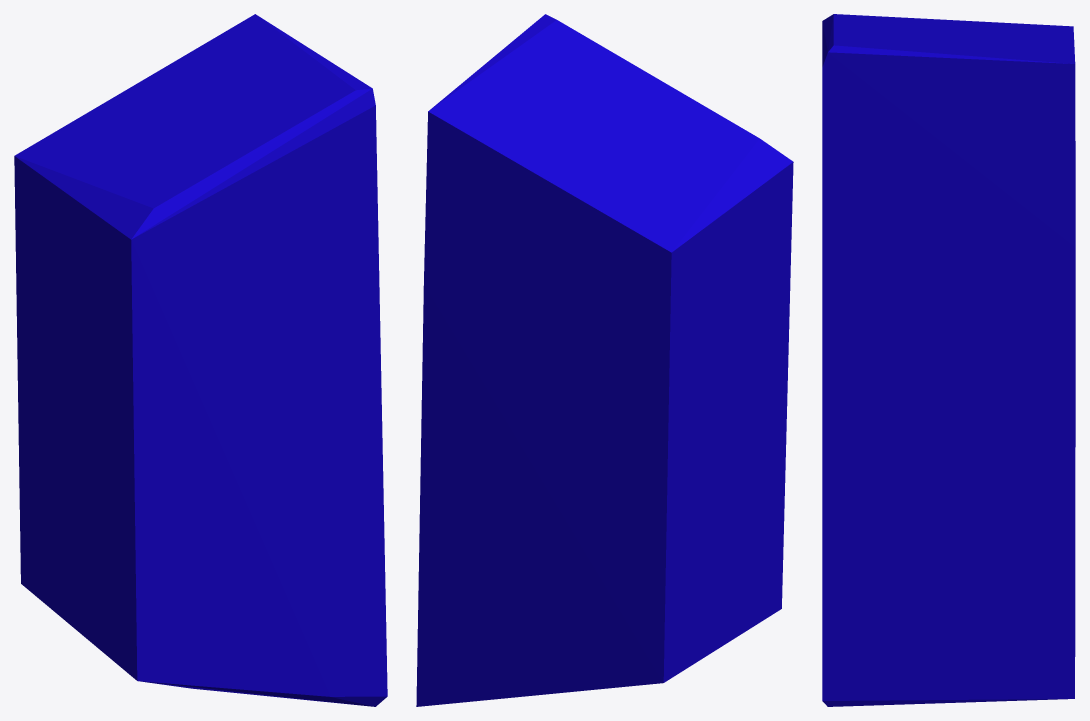
The model's file is pent_convex_piece_006.obj.
3 renders of one model, left to right at view 1: azimuth 30°, elevation 25°; view 2: azimuth 150°, elevation 25°; view 3: azimuth 270°, elevation 25°, orthographic. The views are drawn at different scales.
Bounding box in the file's own units: 0.0348 × 0.0803 × 0.0283.
